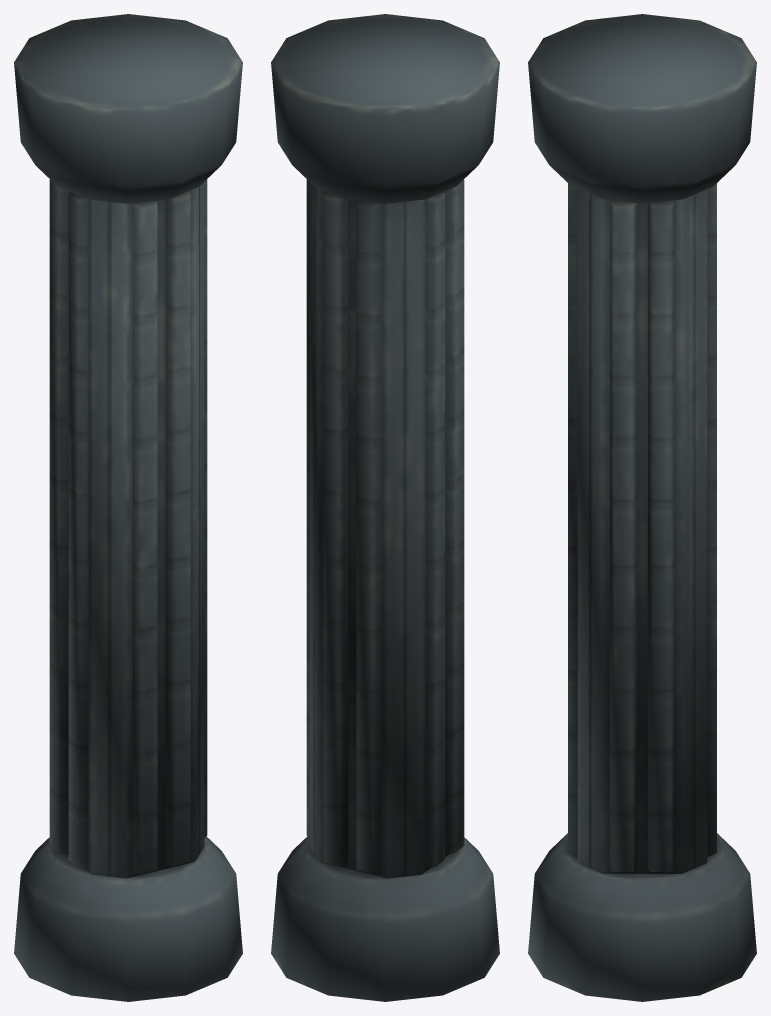
Rendered from ProjectRG_Environment_RuinsPillar_Var1.fbx.
The picture shows the model from 3 angles, left to right: view 1: azimuth 30°, elevation 25°; view 2: azimuth 150°, elevation 25°; view 3: azimuth 270°, elevation 25°; orthographic projection.
Visible parts, largest first — view 1: ProjectRG_Environment_RuinsPillar_Var1; view 2: ProjectRG_Environment_RuinsPillar_Var1; view 3: ProjectRG_Environment_RuinsPillar_Var1.
Part boxes in pixels (<box>): ProjectRG_Environment_RuinsPillar_Var1: <box>14,14,242,1001</box>; ProjectRG_Environment_RuinsPillar_Var1: <box>271,14,499,1001</box>; ProjectRG_Environment_RuinsPillar_Var1: <box>528,14,756,1001</box>.
Bounding box in the file's own units: 557 × 2391 × 557.
